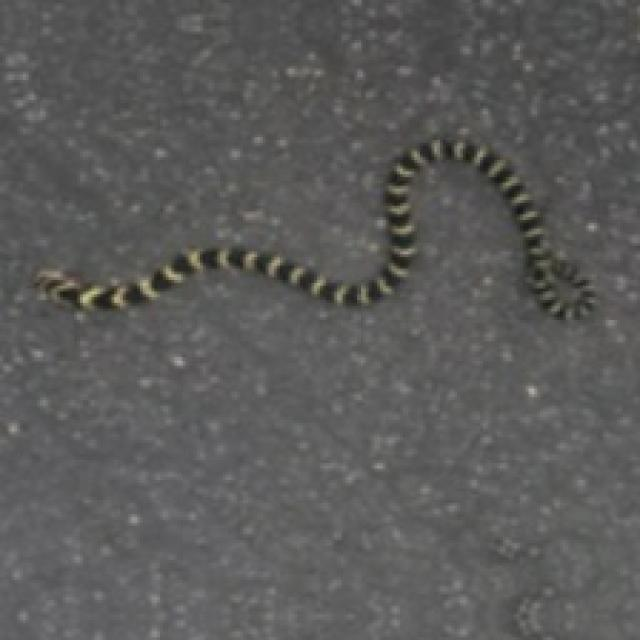king cobra: (34, 137, 594, 317)
